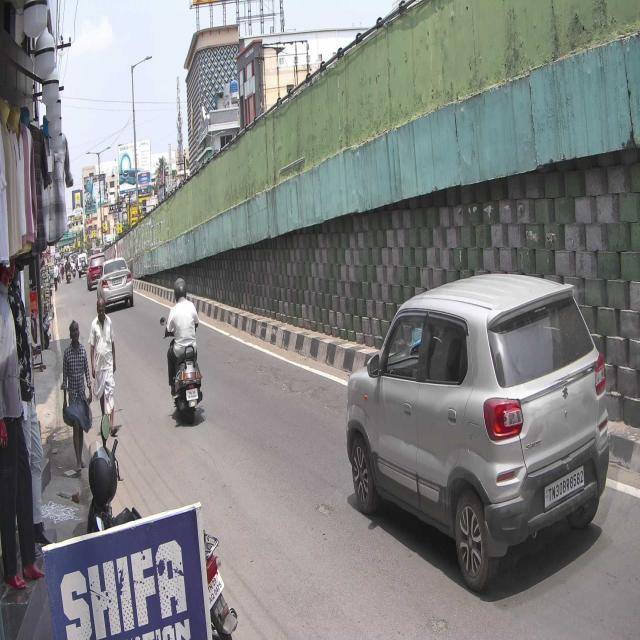single_rider: (163, 278, 203, 427)
